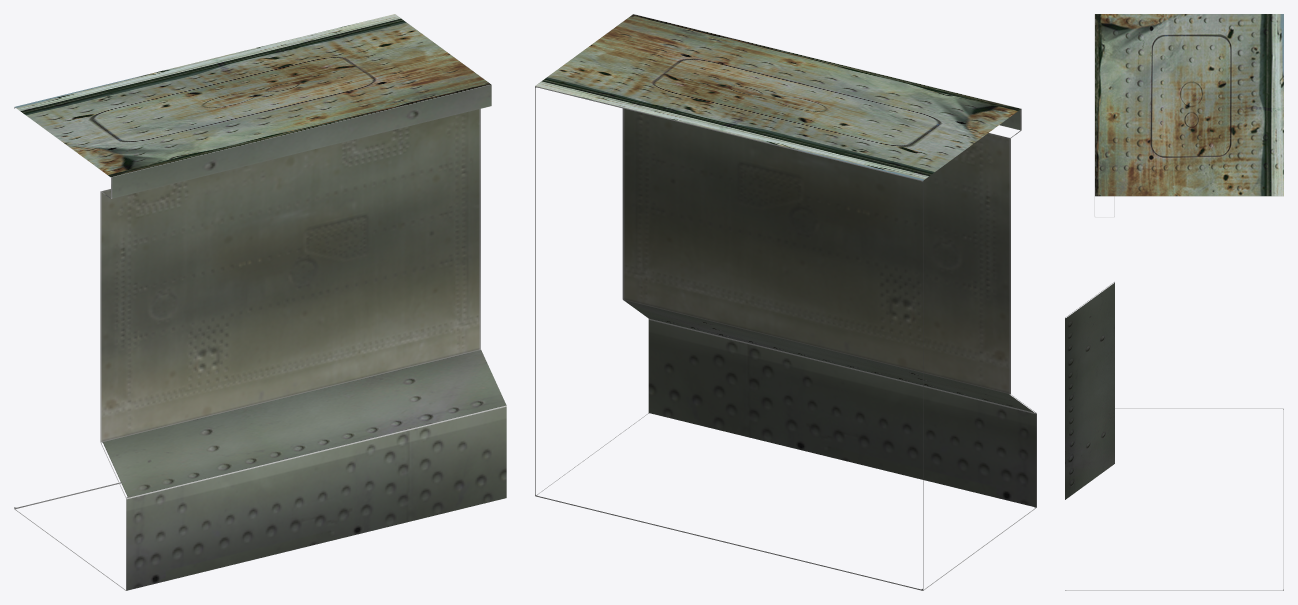
Rendered from Wall.fbx.
3 renders of one model, left to right at view 1: azimuth 30°, elevation 25°; view 2: azimuth 150°, elevation 25°; view 3: azimuth 270°, elevation 25°, orthographic. The views are drawn at different scales.
Parts seen in each view (by area): view 1: UnitWall; view 2: UnitWall; view 3: UnitWall.
Part boxes in pixels (x1,y1,x2,y2): UnitWall: (14,14,506,590); UnitWall: (535,14,1036,590); UnitWall: (1065,14,1283,590).
Bounding box in the file's own units: 1.98 × 2 × 1.01.
Materials: 1 (1 with a texture image).
